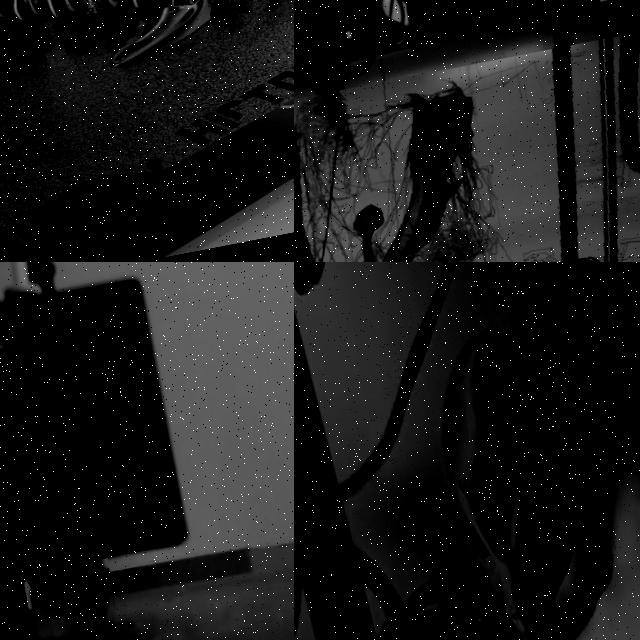spaghetti: (294, 27, 640, 262), (31, 560, 111, 640)
